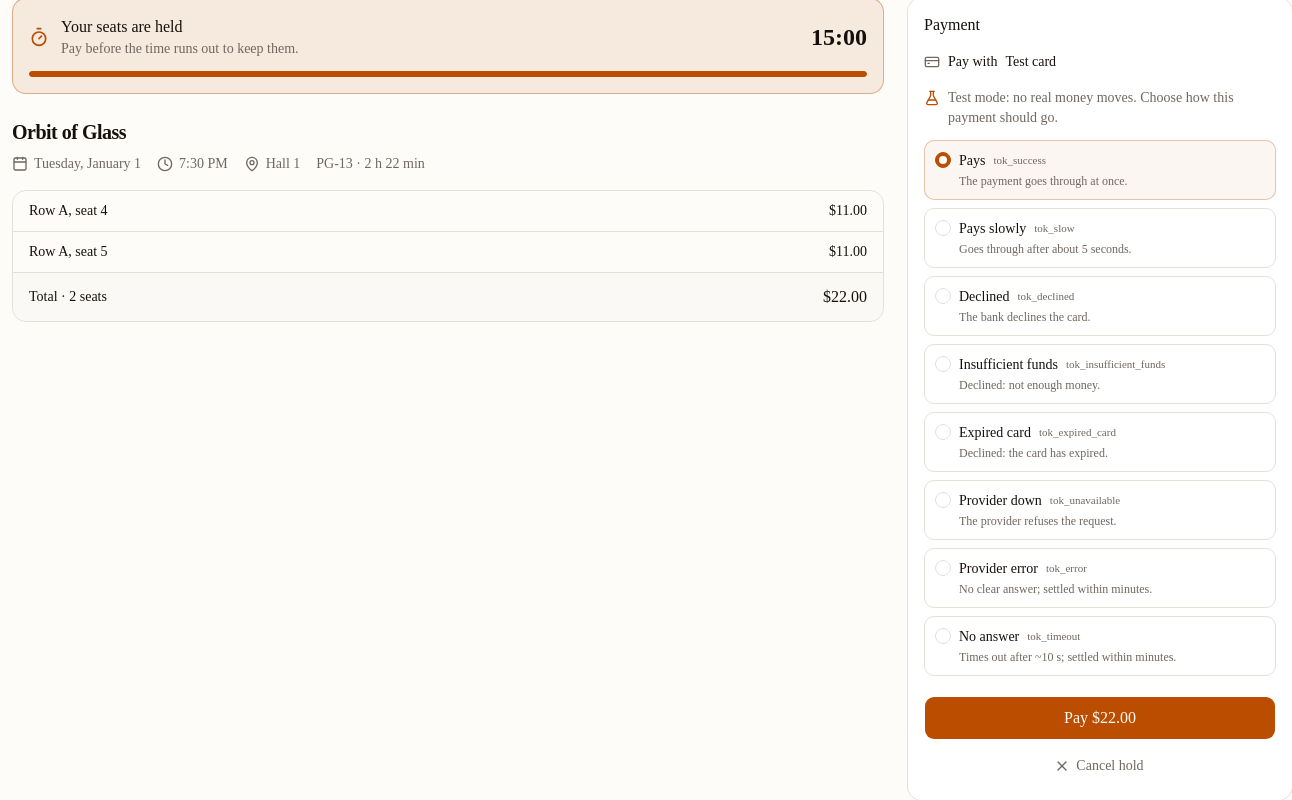
CheckoutView › BOOKING_CANCELED: the hold is closed, with the way back to the seats
The width and height of the screenshot is (1292, 800).
(page scrolled)
What coordinates should you click on to do the following:
click the button "Pay $22.00"
I would click on:
 (1100, 718)
Its box is [924,696,1276,740].
(page scrolled)
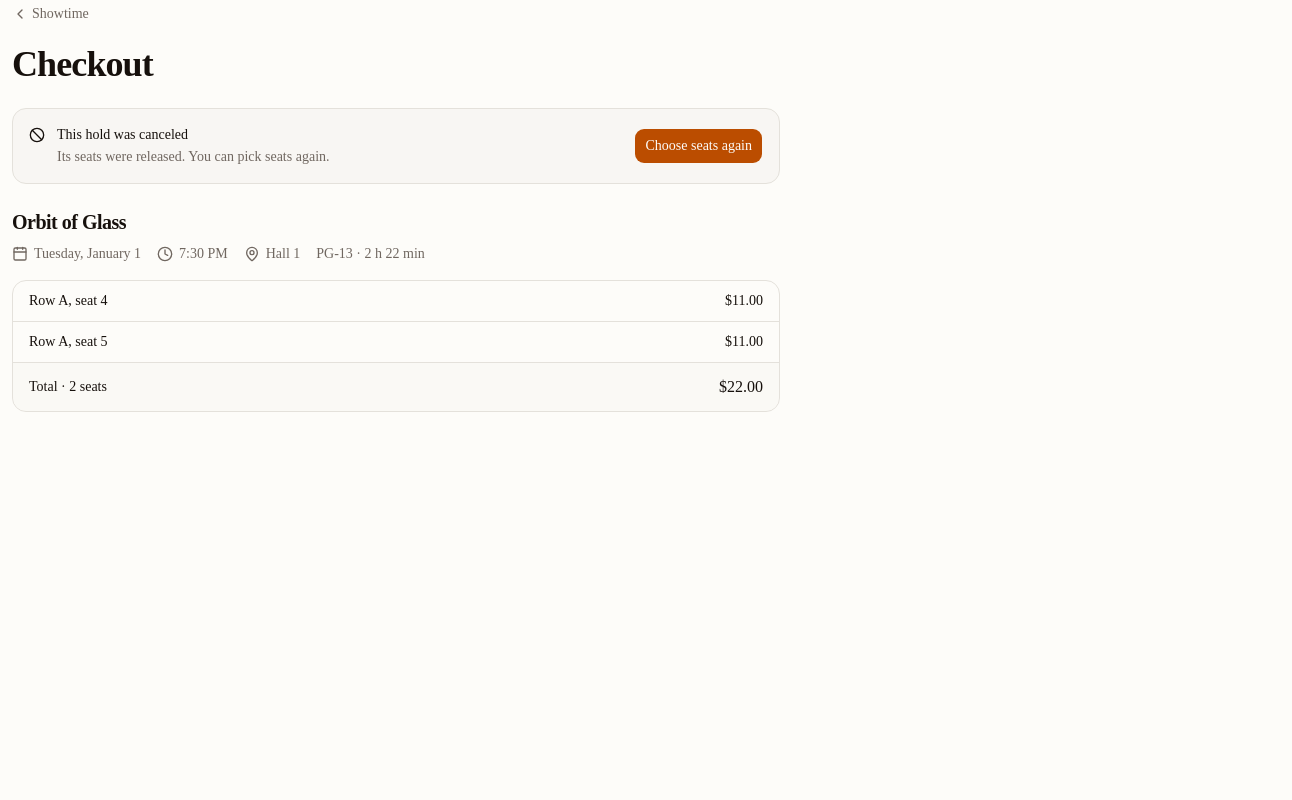
Expected: the message shows "This hold was canceled", [57,127,188,142]
